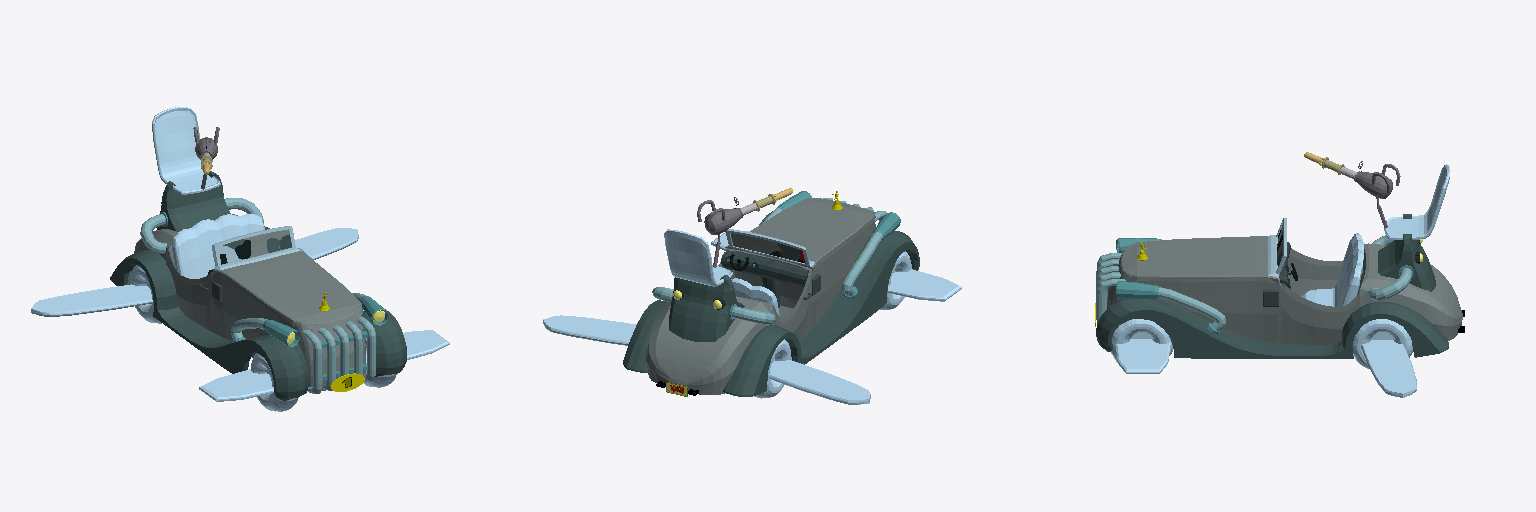
3 renders of one model, left to right at view 1: azimuth 30°, elevation 25°; view 2: azimuth 150°, elevation 25°; view 3: azimuth 270°, elevation 25°, orthographic.
Visible parts, largest first — view 1: model_0, model_2, model_1, model_4; view 2: model_0, model_2, model_1, model_4; view 3: model_0, model_2, model_1.
Boxes of the visible parts, box(x1,y1,x2,y2) form: model_0: box(110, 171, 406, 400); model_2: box(31, 107, 449, 411); model_1: box(140, 127, 387, 393); model_4: box(219, 229, 291, 264); model_0: box(623, 198, 919, 396); model_2: box(543, 229, 961, 404); model_1: box(652, 188, 900, 396); model_4: box(731, 233, 805, 263); model_0: box(1096, 214, 1462, 358); model_2: box(1111, 164, 1450, 397); model_1: box(1095, 152, 1464, 333).
Size of the model in its own units: 74.74 by 39.64 by 73.28.
Materials: 4 (4 with a texture image).